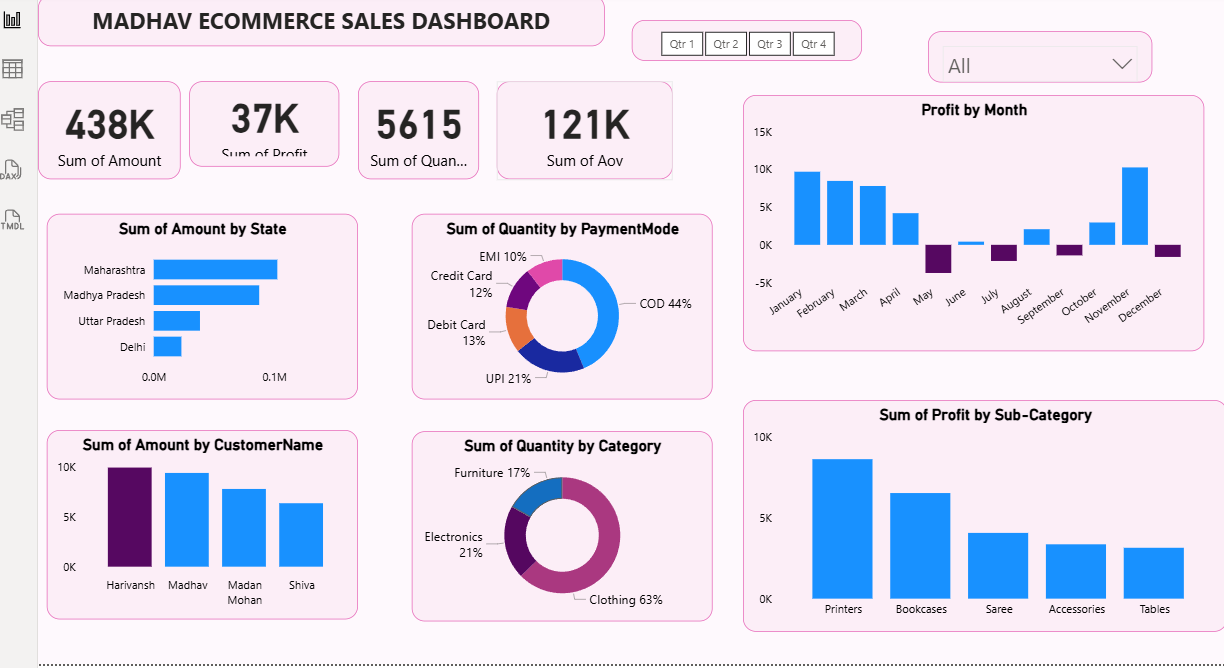

Layout of this report page (visuals, bound fields, positions):
{"tool":"powerbi","page":{"name":"Page 1","canvas":[1280,720],"ordinal":0},"visuals":[{"type":"textbox","box":[0,0,610.6,54.9],"z":0},{"type":"columnChart","title":"Profit by Month","fields":{"Category":["Orders.Order Date.Variation.Date Hierarchy.Month"],"Y":["Details.Profit"]},"box":[758.8,107,496.7,275.8],"z":1000},{"type":"columnChart","fields":{"Category":["Details.Sub-Category"],"Y":["Details.Profit"]},"box":[758.8,436.4,521.4,249.7],"z":2000},{"type":"donutChart","fields":{"Category":["Details.Category"],"Y":["Details.Quantity"]},"box":[402.1,469.3,323.8,204.5],"z":3000},{"type":"donutChart","fields":{"Y":["Details.Quantity"],"Category":["Details.PaymentMode"]},"box":[402.1,236,323.8,200.3],"z":4000},{"type":"card","fields":{"Values":["Details.Amount"]},"box":[0,93.3,153.7,105.7],"z":4001},{"type":"card","fields":{"Values":["Details.Profit"]},"box":[163.3,93.3,161.9,91.9],"z":4002},{"type":"card","fields":{"Values":["Details.Quantity"]},"box":[344.4,93.3,130.4,105.7],"z":4003},{"type":"card","fields":{"Values":["Details.Aov"]},"box":[494,93.3,189.4,105.7],"z":4004},{"type":"barChart","fields":{"Category":["Orders.State"],"Y":["Details.Amount"]},"box":[9.6,236,334.8,200.3],"z":4005},{"type":"columnChart","fields":{"Category":["Orders.CustomerName"],"Y":["Details.Amount"]},"box":[10,469,335,204],"z":4006},{"type":"slicer","fields":{"Values":["Orders.Order Date.Variation.Date Hierarchy.Quarter"]},"box":[639.5,27.4,248.4,43.9],"z":4007},{"type":"slicer","fields":{"Values":["Orders.State"]},"box":[959.2,38.4,241.5,54.9],"z":4008}]}

Visuals, with their boxes on the page's 1280x720 design canvas (x1, y1, x2, y2). These are canvas units, not pixel positions in the 1224x668 screenshot, which may show the page scaled, cropped or inside an application window:
textbox: x1=0, y1=0, x2=611, y2=55
"Profit by Month" columnChart: x1=759, y1=107, x2=1256, y2=383
columnChart - Details.Sub-Category x Details.Profit: x1=759, y1=436, x2=1280, y2=686
donutChart - Details.Category x Details.Quantity: x1=402, y1=469, x2=726, y2=674
donutChart - Details.Quantity x Details.PaymentMode: x1=402, y1=236, x2=726, y2=436
card - Details.Amount: x1=0, y1=93, x2=154, y2=199
card - Details.Profit: x1=163, y1=93, x2=325, y2=185
card - Details.Quantity: x1=344, y1=93, x2=475, y2=199
card - Details.Aov: x1=494, y1=93, x2=683, y2=199
barChart - Orders.State x Details.Amount: x1=10, y1=236, x2=344, y2=436
columnChart - Orders.CustomerName x Details.Amount: x1=10, y1=469, x2=345, y2=673
slicer - Orders.Order Date.Variation.Date Hierarchy.Quarter: x1=640, y1=27, x2=888, y2=71
slicer - Orders.State: x1=959, y1=38, x2=1201, y2=93
